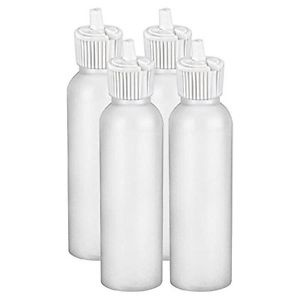emptybottle: (169, 40, 233, 292), (101, 39, 164, 291), (67, 7, 123, 258)
